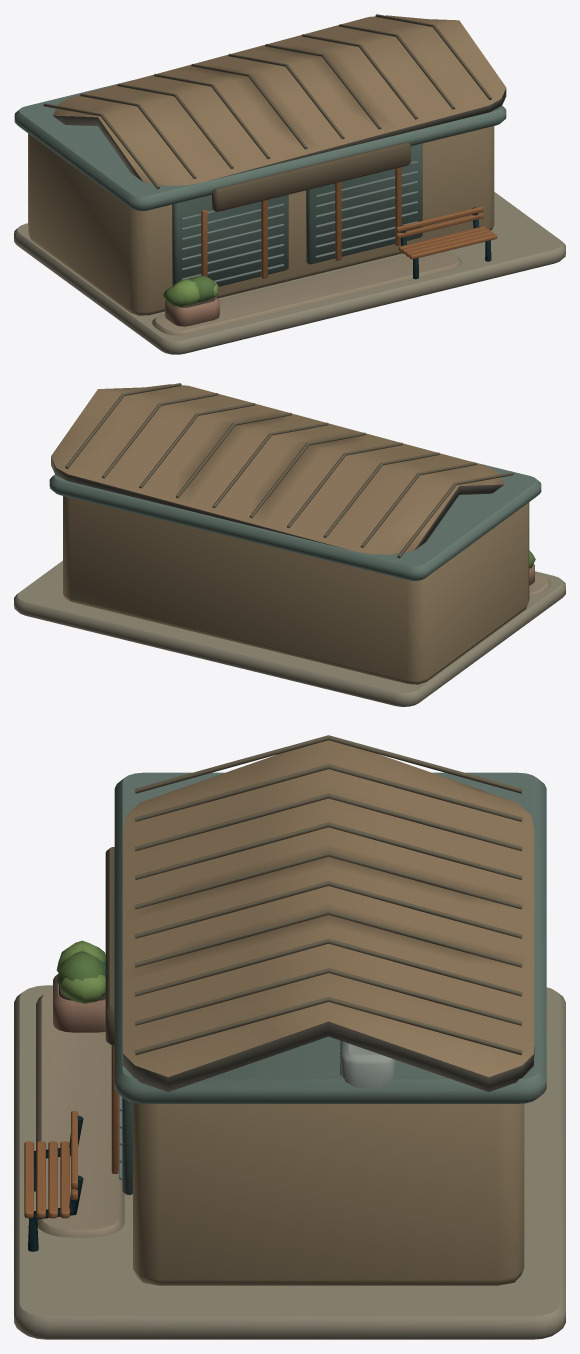
File: market_shuttered.glb
3 renders of one model, top to bottom at view 1: azimuth 30°, elevation 25°; view 2: azimuth 150°, elevation 25°; view 3: azimuth 270°, elevation 25°, orthographic. The views are drawn at different scales.
Parts seen in each view (by area): view 1: Market_shuttered; view 2: Market_shuttered; view 3: Market_shuttered.
Boxes of the visible parts, x1,y1,x2,y2 form: Market_shuttered: (14,14,565,354); Market_shuttered: (14,383,565,706); Market_shuttered: (14,735,565,1339).
Bounding box in the file's own units: 7.69 × 3.24 × 5.29.
